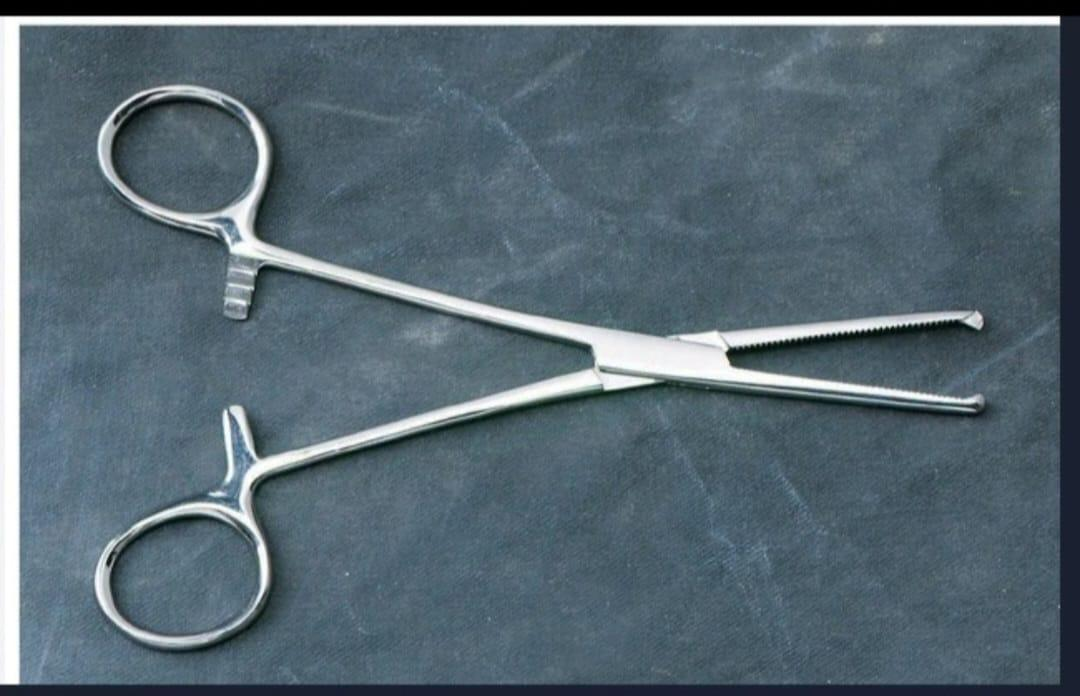Kocher Forceps: (79, 77, 994, 652)
